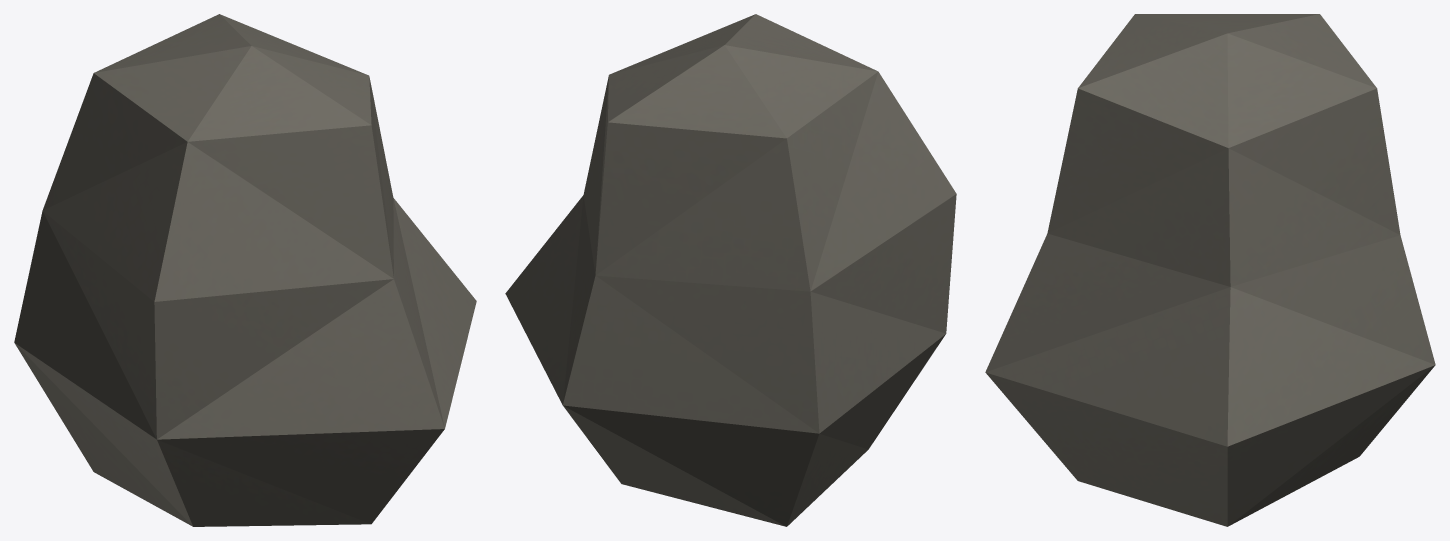
File: Rock_Single_2D.fbx
The picture shows the model from 3 angles, left to right: view 1: azimuth 30°, elevation 25°; view 2: azimuth 150°, elevation 25°; view 3: azimuth 270°, elevation 25°; orthographic projection. The views are drawn at different scales.
Parts seen in each view (by area): view 1: pSphere6; view 2: pSphere6; view 3: pSphere6.
Part boxes in pixels (<box>): pSphere6: <box>14,14,476,526</box>; pSphere6: <box>505,14,956,526</box>; pSphere6: <box>985,14,1435,526</box>.
Size of the model in its own units: 117 by 128 by 118.
Materials: 1 (1 with a texture image).
